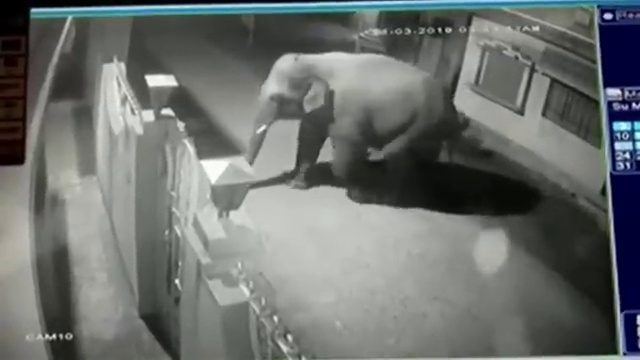Elephant: (246, 52, 459, 209)
